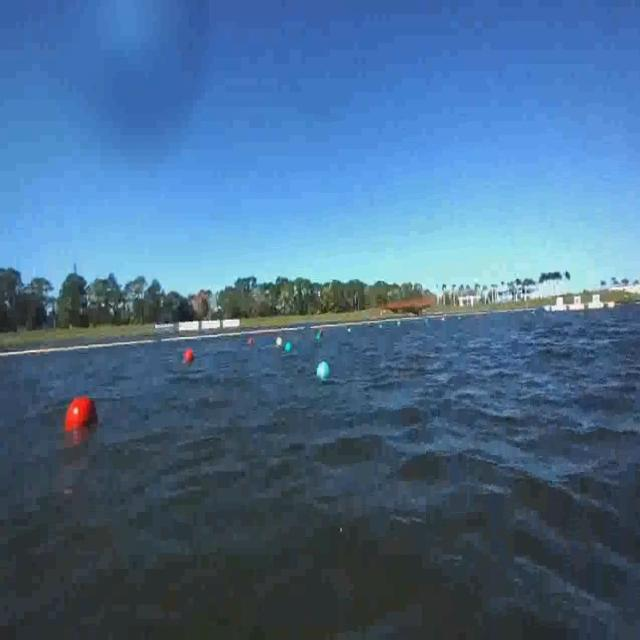green-buoy: (319, 358, 333, 380), (284, 342, 292, 353)
red-buoy: (64, 394, 103, 437), (184, 348, 195, 363)
